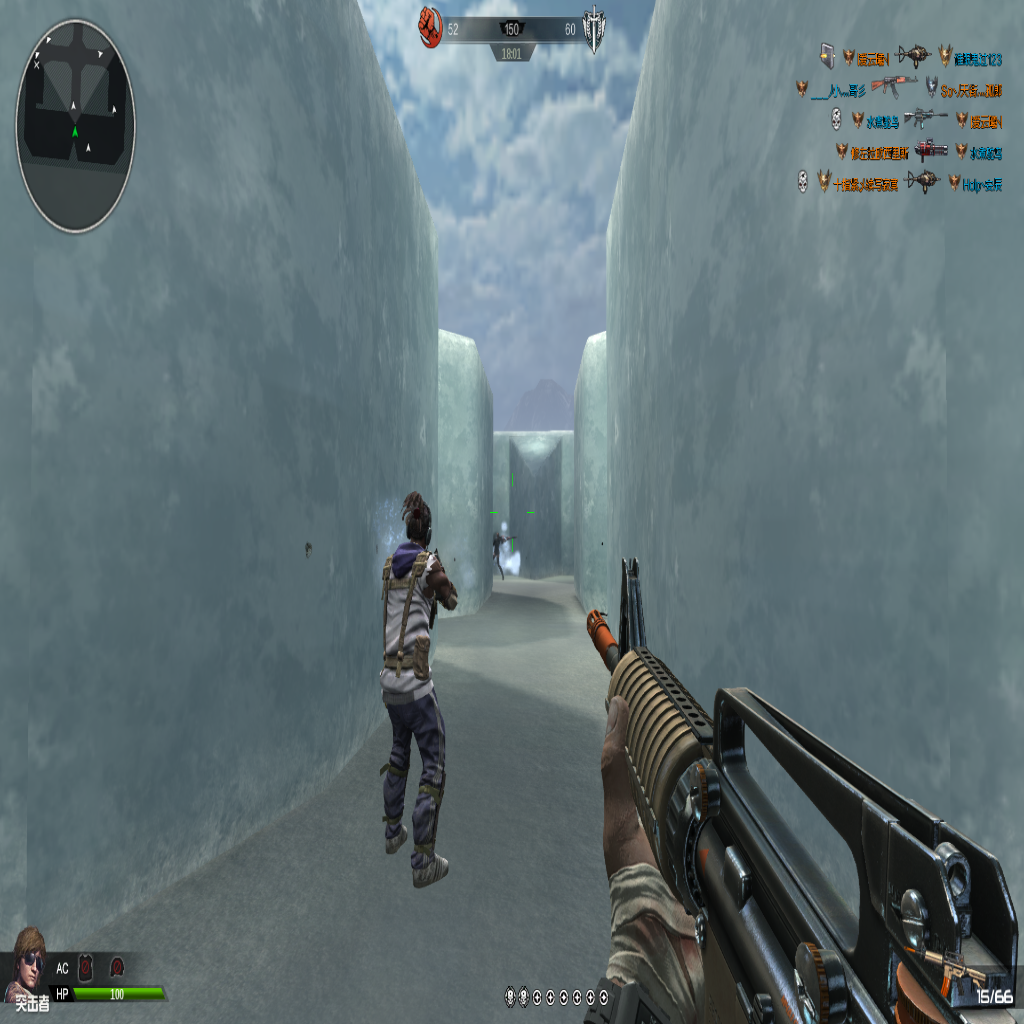ct: (492, 531, 506, 581)
tt: (377, 490, 460, 896)
